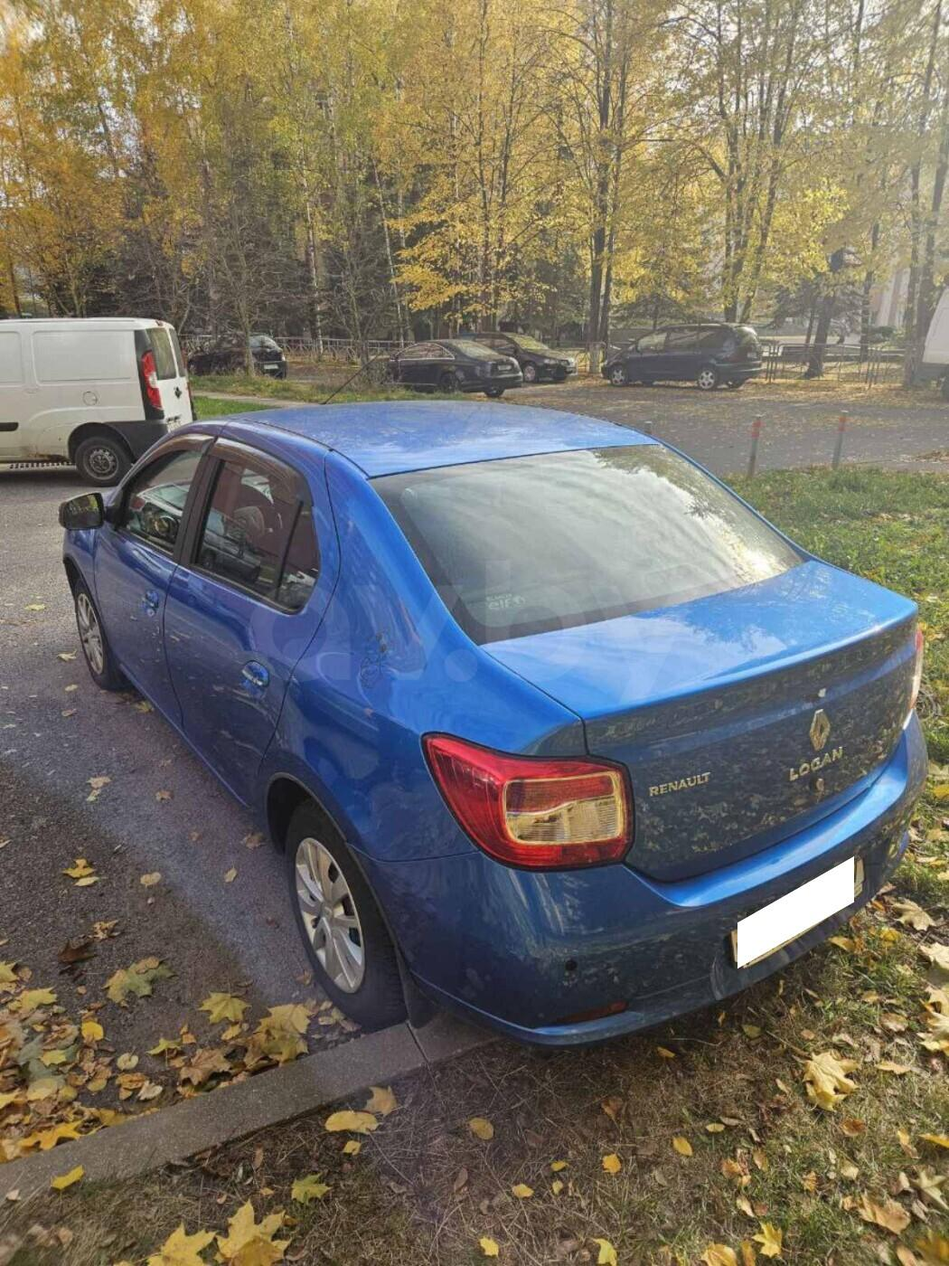Logan_2013-2018: (60, 402, 935, 1060)
